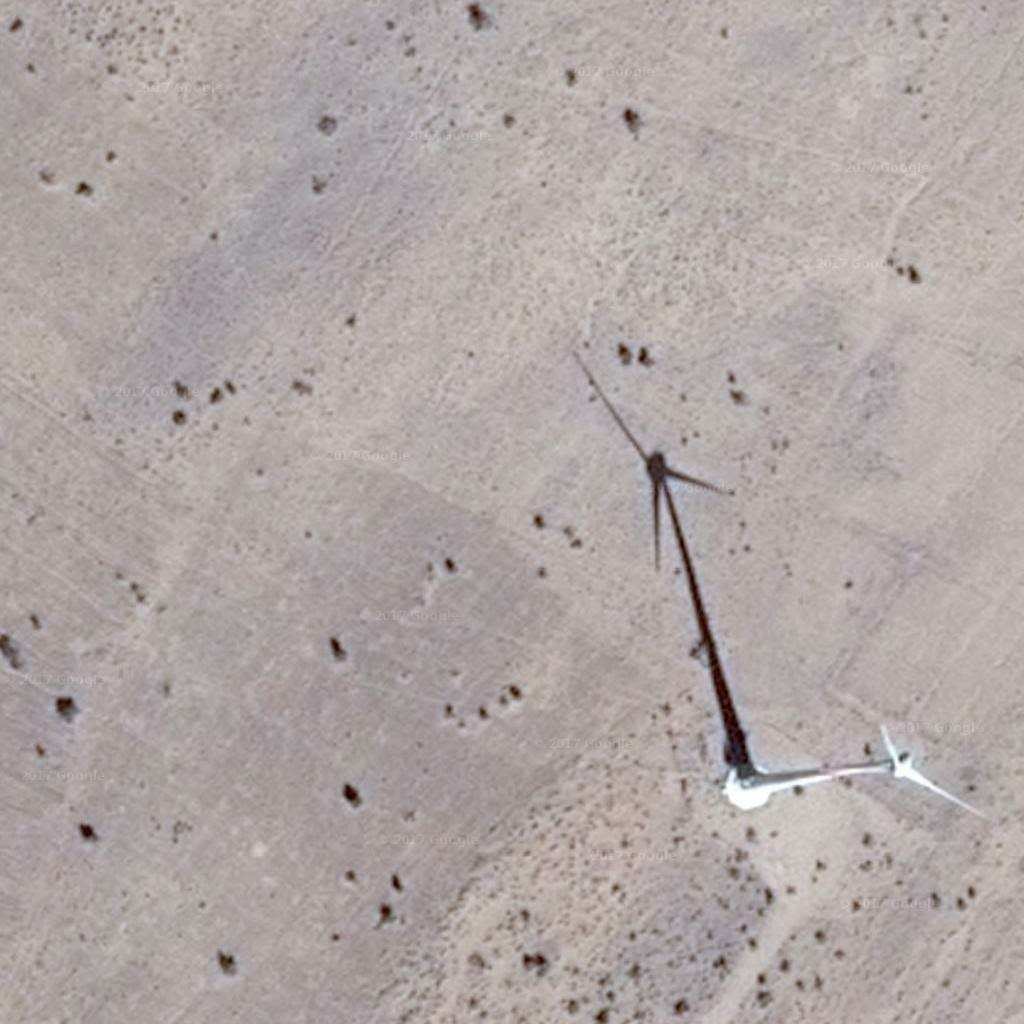Windmill: (570, 352, 747, 703)
